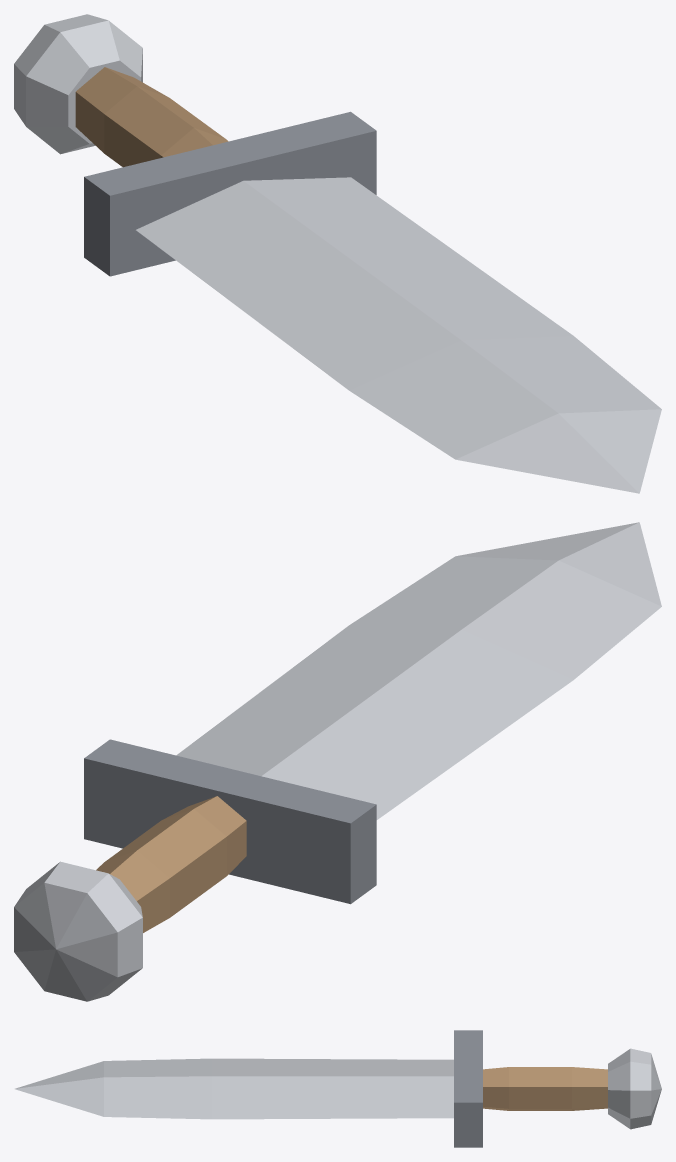
Rendered from recruitblade.glb.
3 views of the same model, one above another, from view 1: azimuth 30°, elevation 25°; view 2: azimuth 150°, elevation 25°; view 3: azimuth 270°, elevation 25° (orthographic). The views are drawn at different scales.
Parts seen in each view (by area): view 1: recruitblade; view 2: recruitblade; view 3: recruitblade.
Boxes of the visible parts, box(x1,y1,x2,y2) form: recruitblade: box(14, 14, 661, 493); recruitblade: box(14, 522, 661, 1001); recruitblade: box(15, 1030, 661, 1147).
Bounding box in the file's own units: 0.19 × 0.0831 × 0.72.
